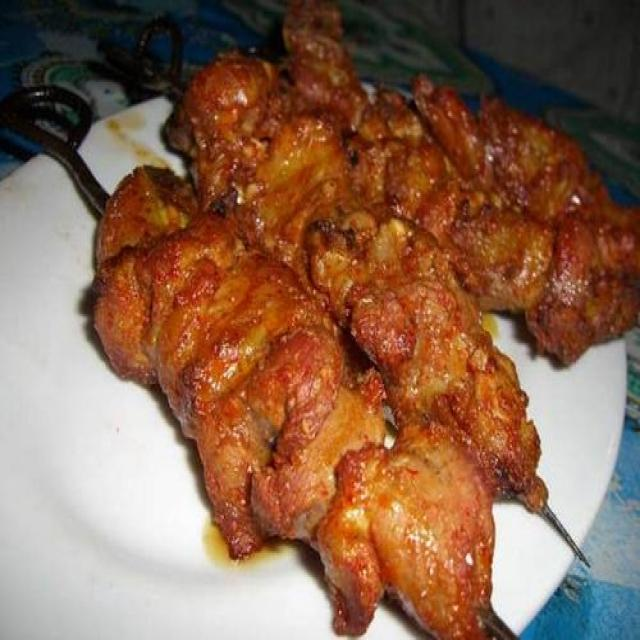烧串烤肉: (36, 24, 631, 623)
